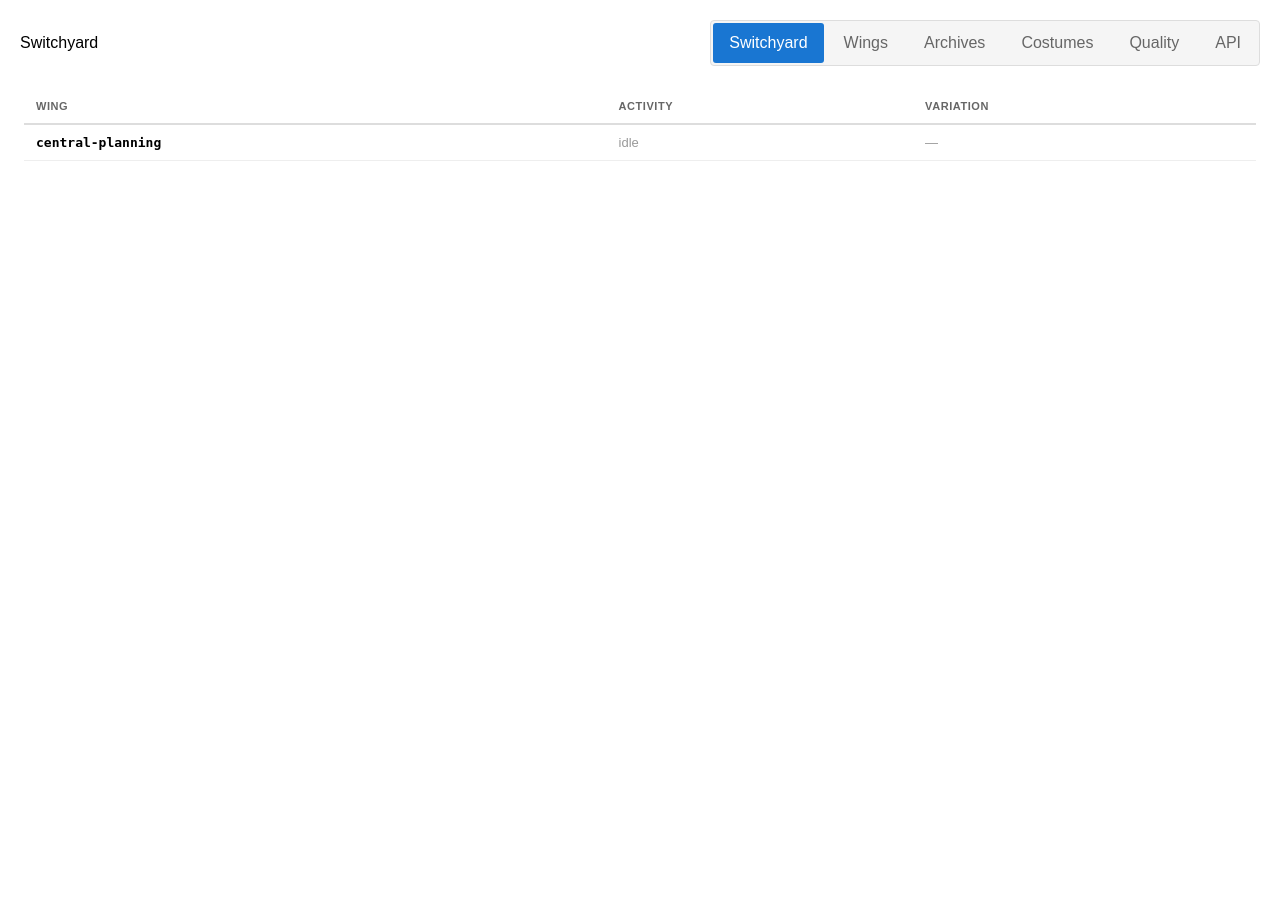
Test: LairOverview › shows wing detail when card clicked
Click the button "Wings": (866, 43) [828, 23, 904, 63]
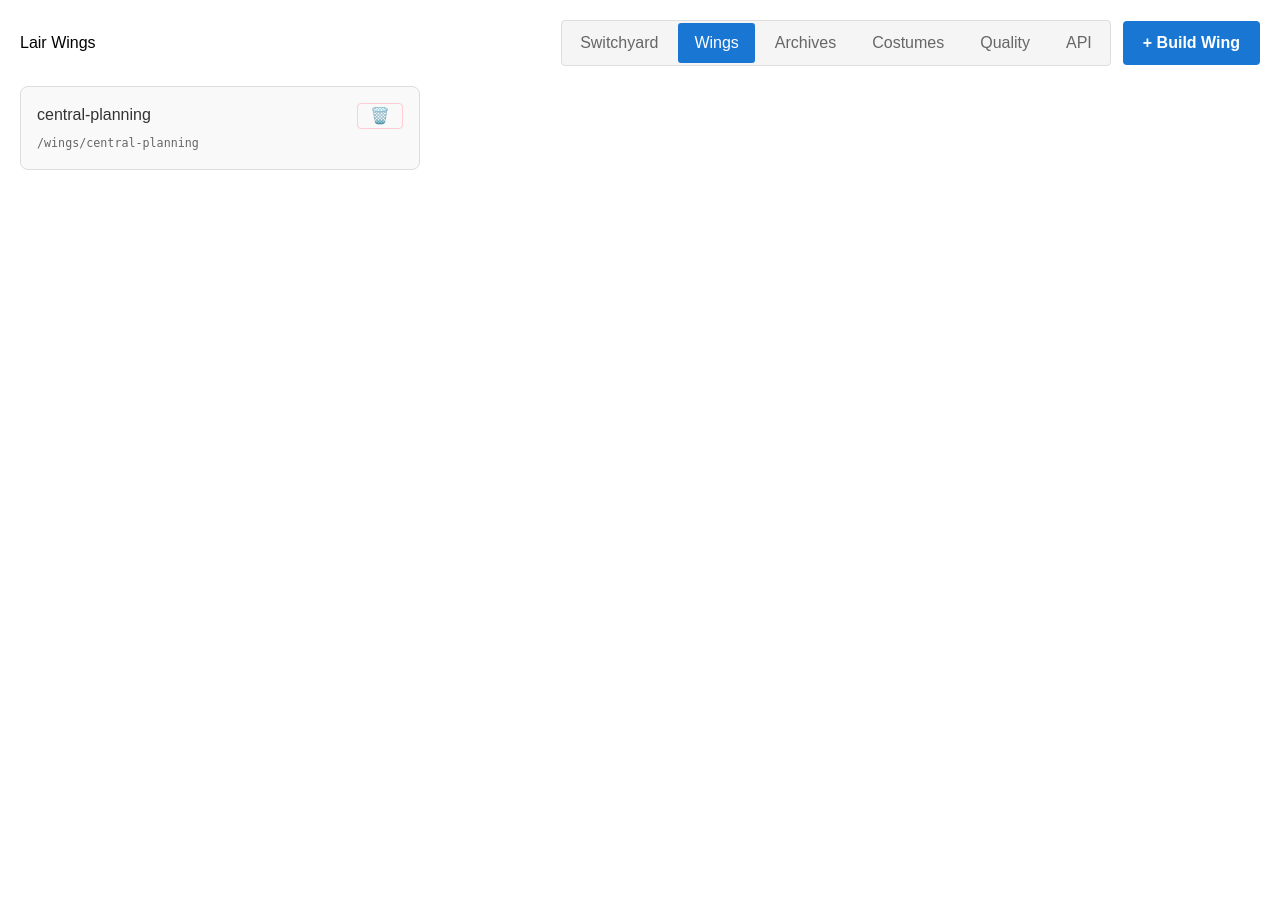
Click the element with class "wing-header": (94, 114) [37, 103, 403, 152]
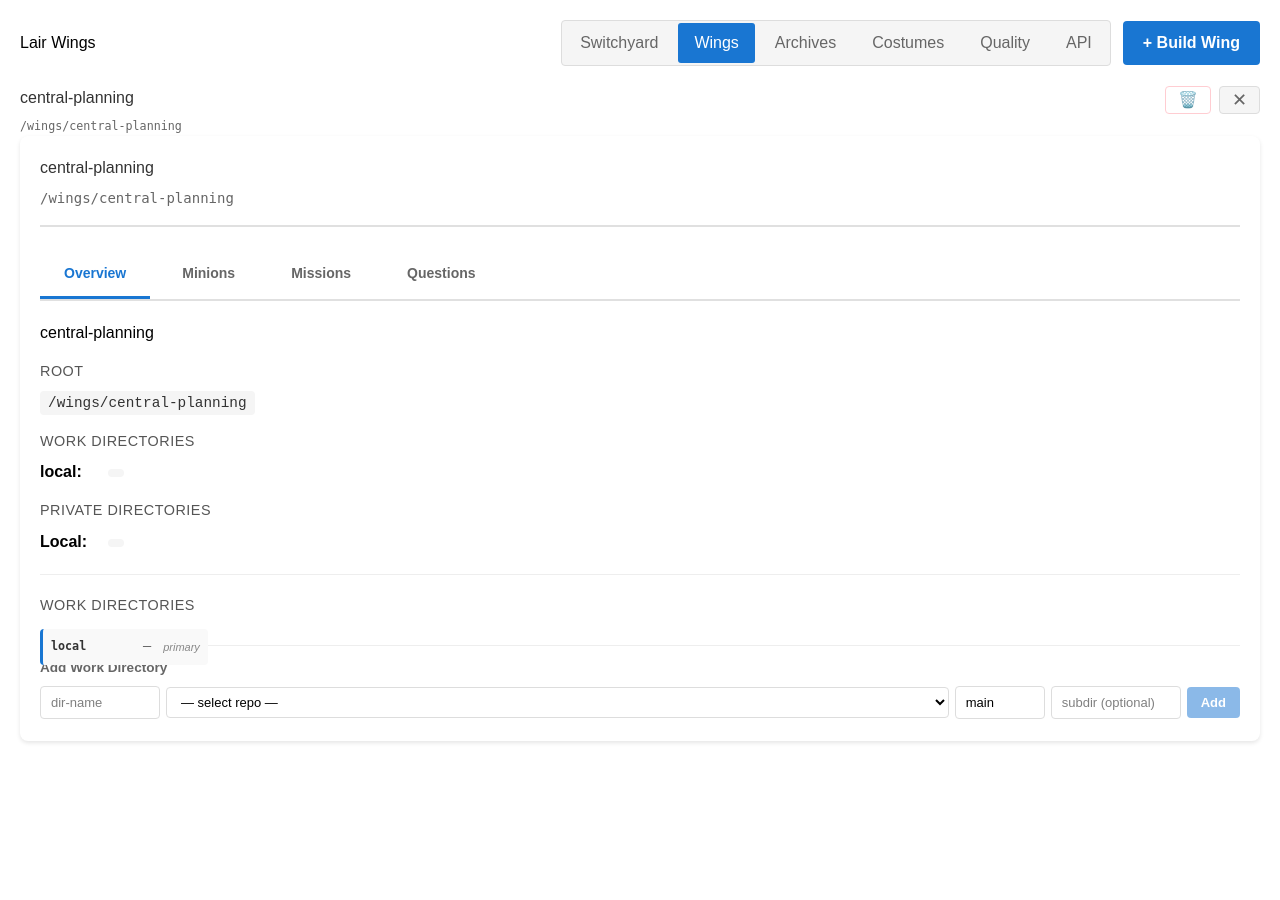
Expected: the text "Root" is shown, [40, 362, 84, 378]
Expected: the text "Work Directories" is shown, [40, 433, 195, 449]
